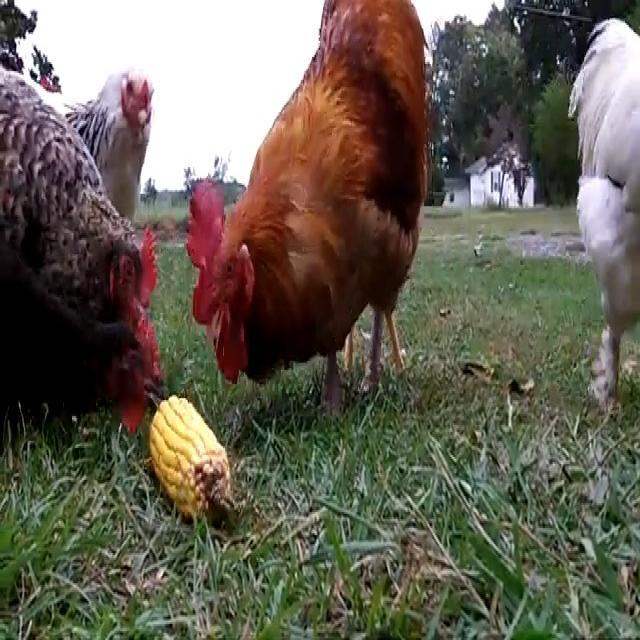feeding: (178, 0, 438, 396), (0, 73, 170, 323), (0, 311, 167, 421)
